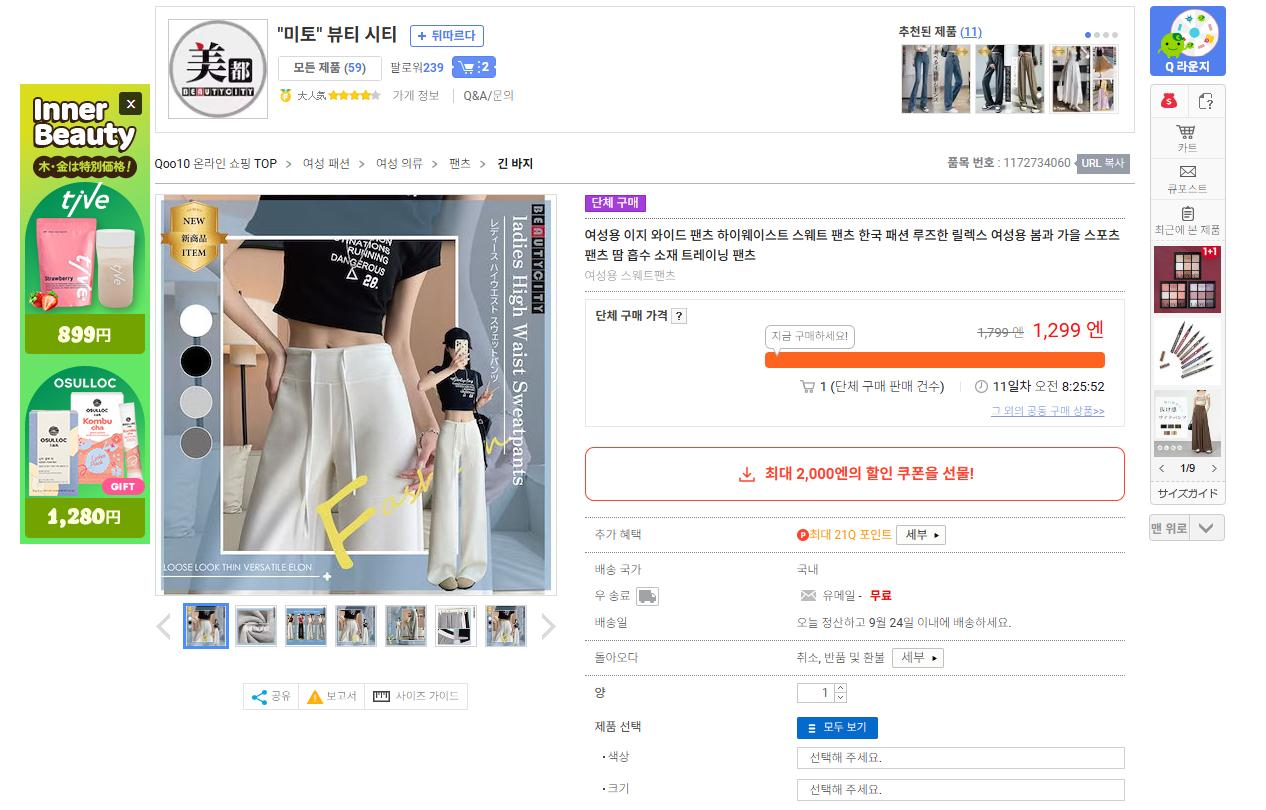button: (579, 451, 1130, 496), (1149, 2, 1234, 73), (1153, 236, 1226, 310), (1154, 389, 1216, 463), (1154, 317, 1219, 381), (1148, 116, 1222, 154), (1154, 158, 1216, 199), (1150, 203, 1220, 239), (436, 597, 478, 652), (283, 56, 371, 80), (331, 599, 373, 649), (801, 716, 890, 739), (284, 604, 326, 652), (1151, 517, 1223, 543), (373, 687, 460, 708), (183, 606, 224, 649), (388, 598, 423, 646), (484, 608, 524, 649), (239, 607, 273, 649), (889, 646, 948, 670), (246, 682, 302, 707), (894, 521, 947, 547), (1184, 76, 1224, 110), (993, 406, 1109, 417), (408, 27, 481, 43), (1150, 81, 1184, 112), (310, 690, 372, 707), (1073, 154, 1133, 171), (798, 682, 836, 707), (448, 62, 500, 79), (534, 609, 557, 640)
input_field: (19, 86, 153, 552), (798, 781, 1124, 801), (799, 748, 1122, 767)
